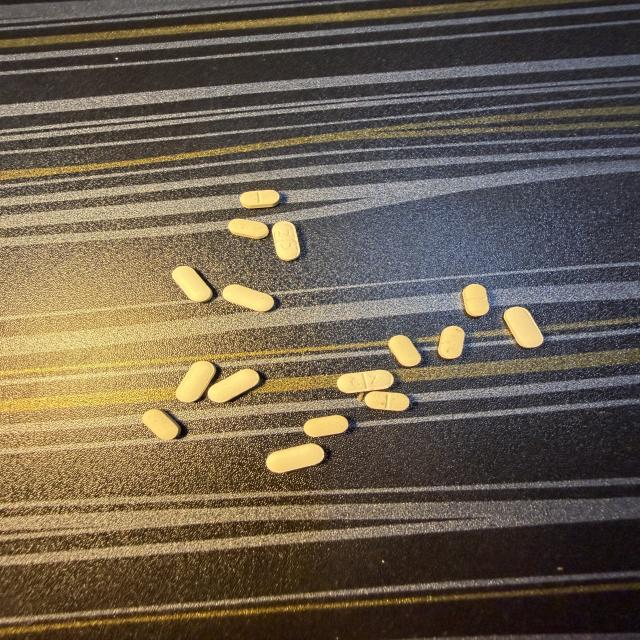pill: (209, 369, 260, 402), (267, 444, 324, 473), (176, 361, 216, 402), (504, 307, 543, 347), (172, 266, 212, 302), (223, 285, 274, 311), (337, 370, 393, 393), (272, 221, 300, 261), (143, 409, 180, 439), (389, 335, 421, 366), (304, 415, 348, 436), (438, 326, 464, 359), (365, 392, 409, 411), (463, 284, 489, 316), (228, 219, 268, 239), (240, 190, 280, 208)
